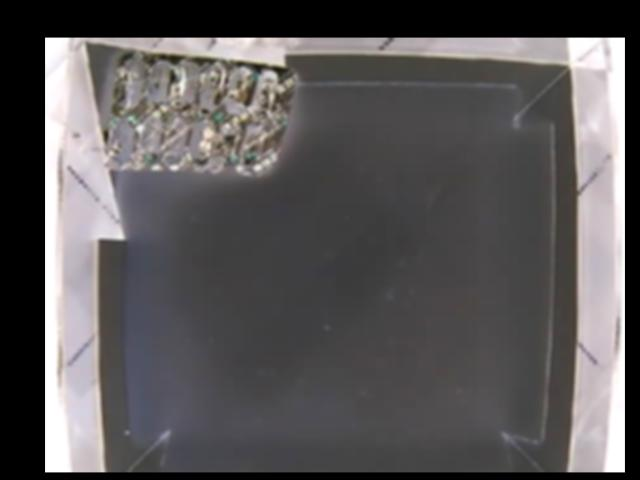Medicine: (103, 50, 297, 181)
